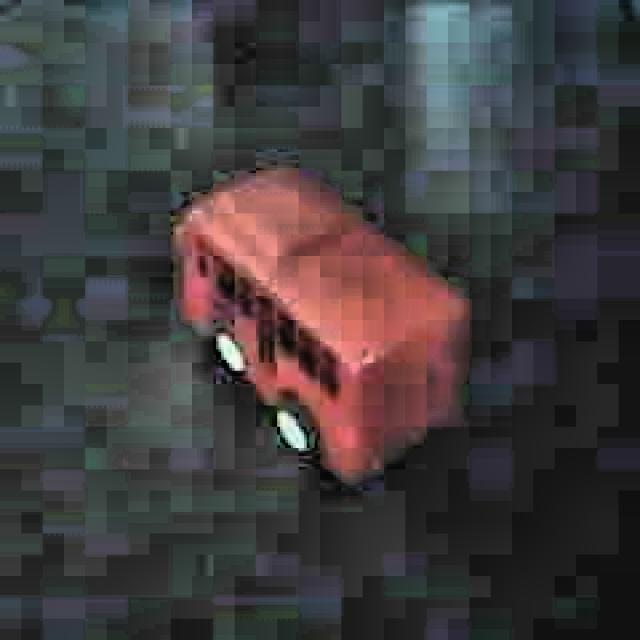bus: (169, 161, 468, 496)
